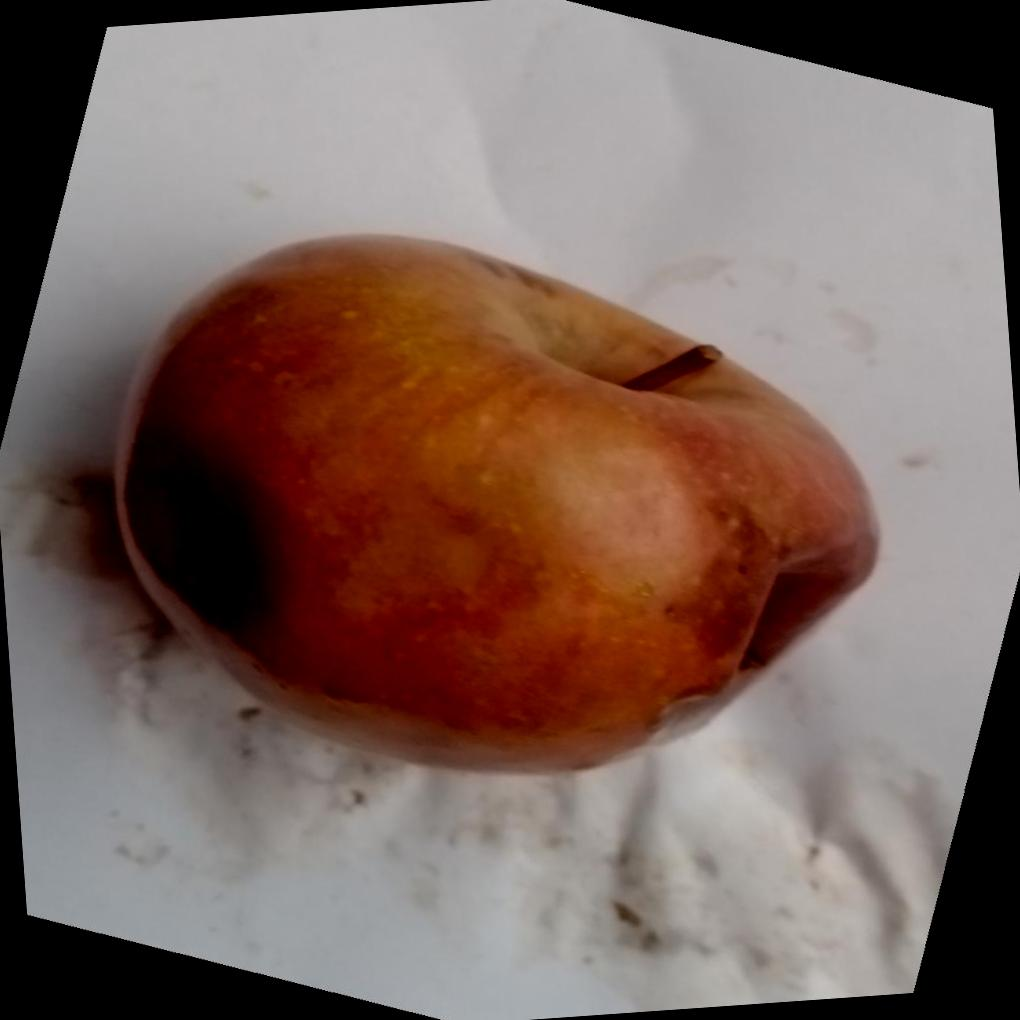FreshOrange: (113, 235, 880, 776)
